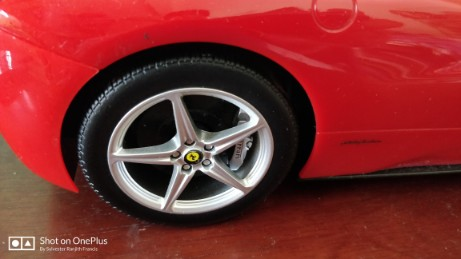aligned_wheel: (74, 49, 302, 228)
